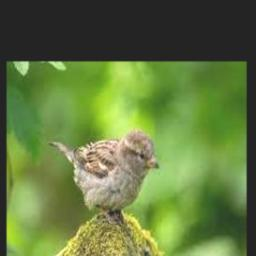Sparrow: (50, 128, 160, 223)
